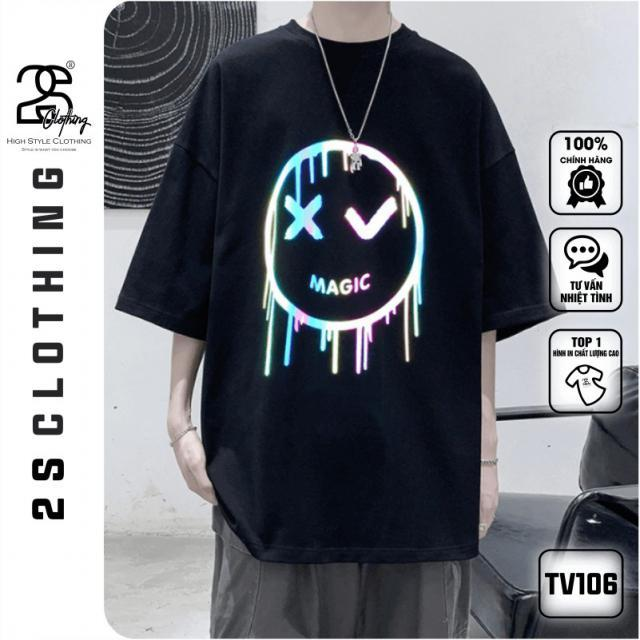Shirt: (113, 25, 570, 557)
